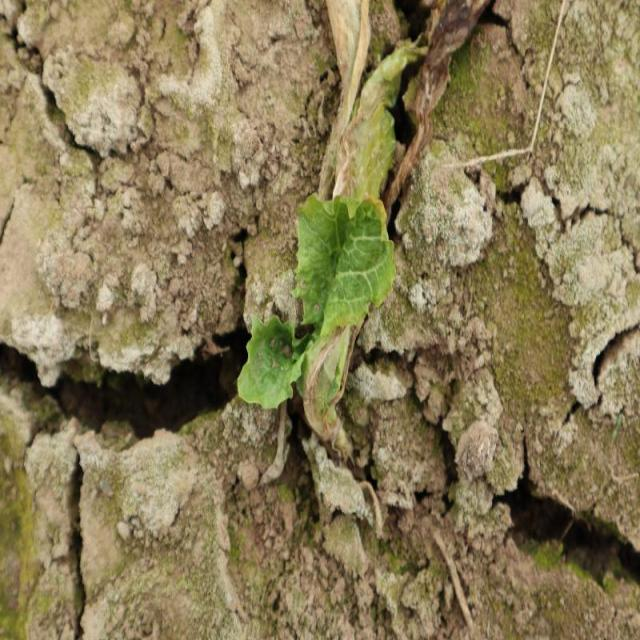crop: (236, 188, 399, 412)
